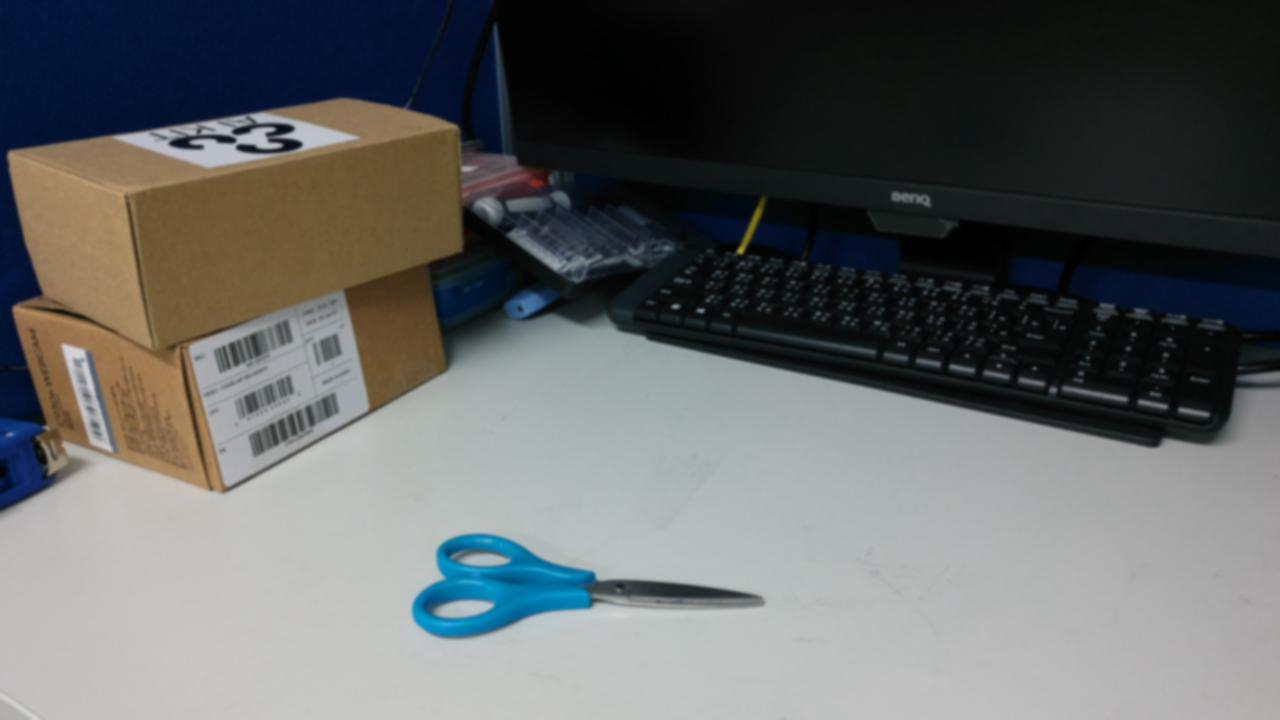columnar: (857, 207, 1013, 383)
grip: (1007, 244, 1066, 357)
